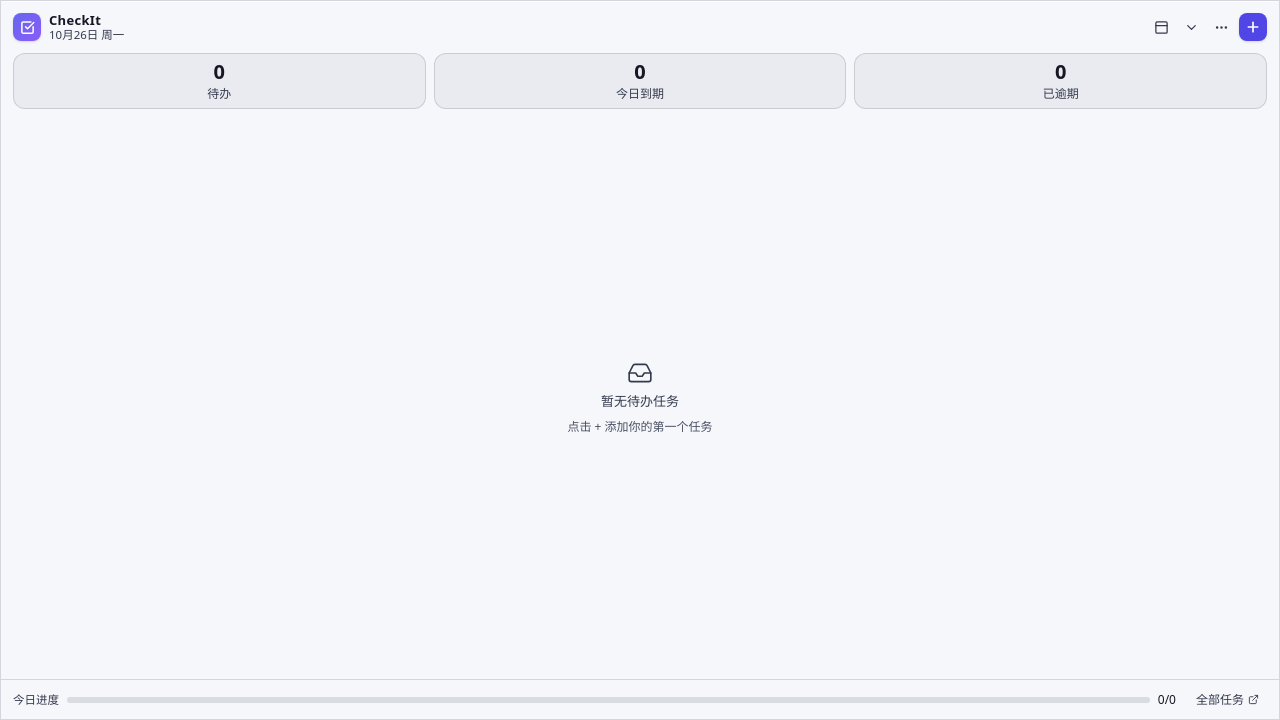
Test: WidgetApp 窗口模式与快速添加 › 快速添加等待原生高度调整成功，失败时不打开被裁切的表单
Click the button titled "添加任务": (1253, 27) [1239,13,1267,41]
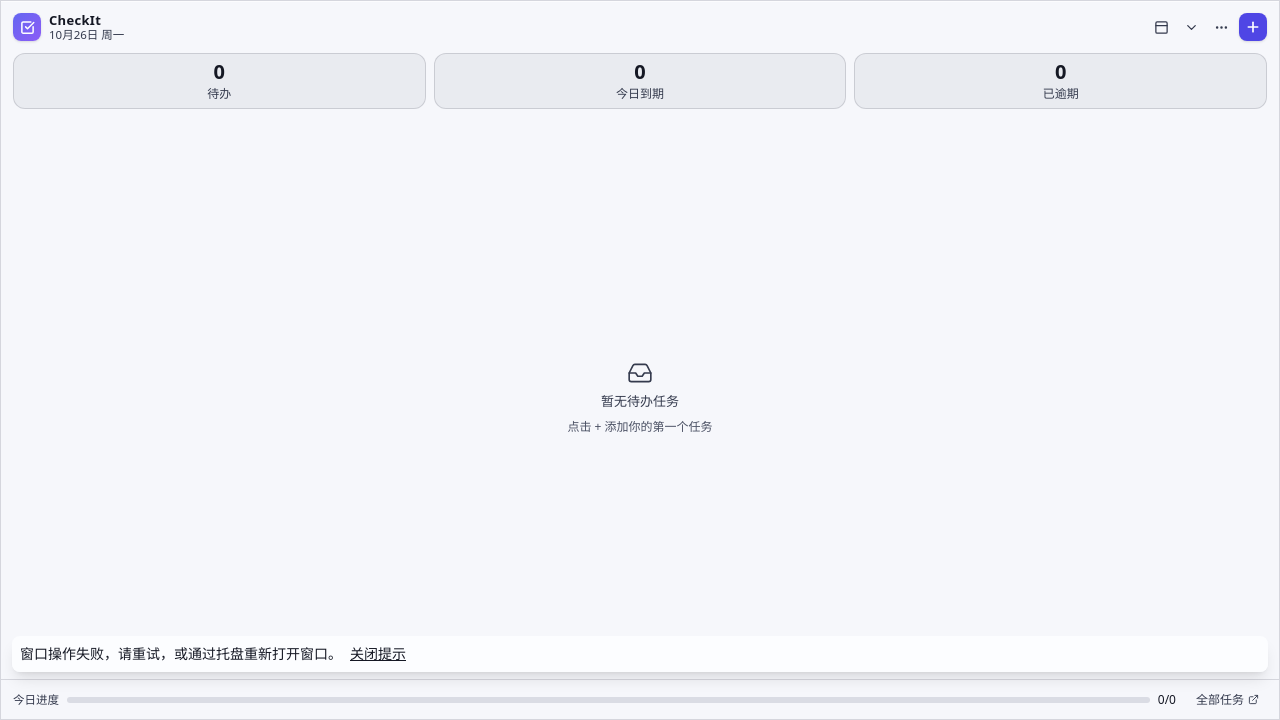
Expected: the button titled "收起" is shown, [1177,13,1205,41]
Result: the message "窗口操作失败，请重试，或通过托盘重新打开窗口。 关闭提示" is shown at [12,636,1268,672]
